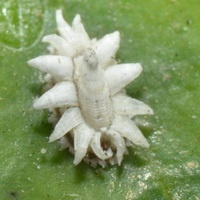insect: (28, 10, 152, 165)
